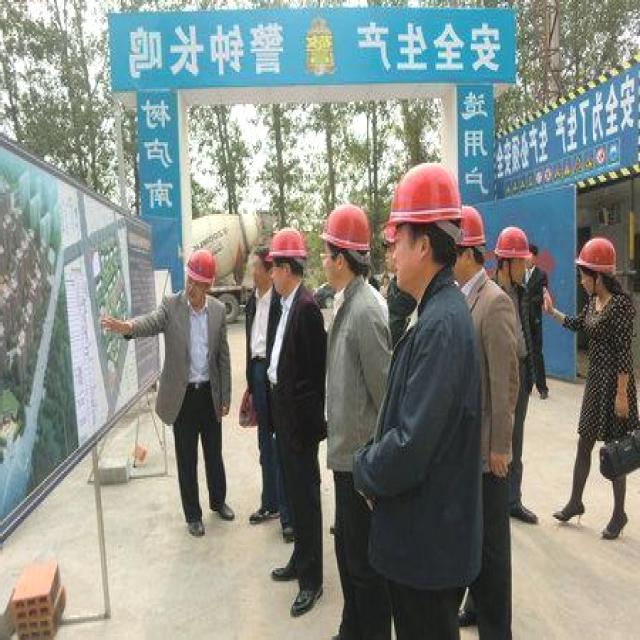face_nomask: (382, 224, 432, 294), (319, 242, 357, 288), (266, 256, 297, 299), (499, 258, 532, 294), (178, 272, 206, 308), (578, 267, 602, 301), (246, 256, 269, 290)
hand_noglove: (100, 312, 132, 348), (486, 445, 512, 487), (611, 386, 633, 418), (538, 286, 554, 316)
head_helmet: (388, 161, 465, 221), (320, 203, 374, 248), (575, 235, 620, 271), (454, 203, 489, 246), (268, 224, 308, 258), (495, 224, 535, 258), (185, 246, 216, 284)
head_nohelmet: (245, 244, 273, 263), (525, 242, 540, 258)
person: (372, 159, 477, 640), (317, 202, 388, 640), (262, 225, 324, 608), (463, 212, 518, 640), (170, 244, 230, 532), (576, 252, 634, 538), (495, 226, 539, 526), (243, 242, 284, 530), (524, 240, 550, 402)
shoes: (286, 570, 328, 623), (266, 550, 316, 582), (248, 498, 281, 532), (212, 486, 239, 524), (184, 501, 208, 539)
